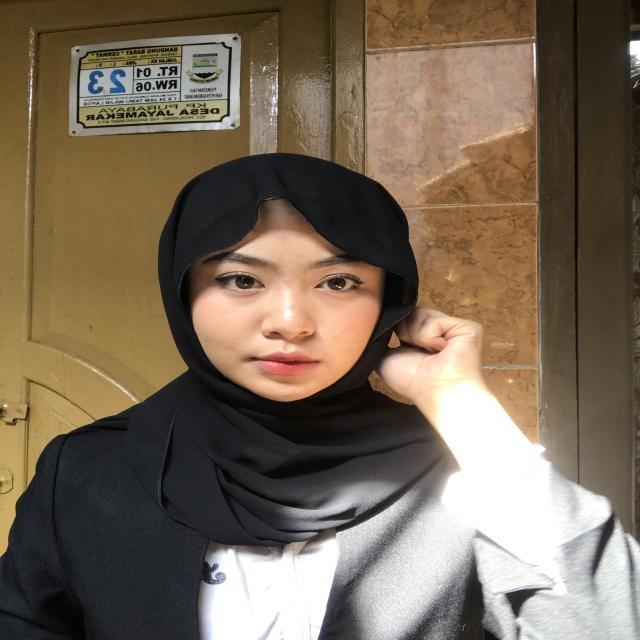ibu: (342, 298, 538, 466)
